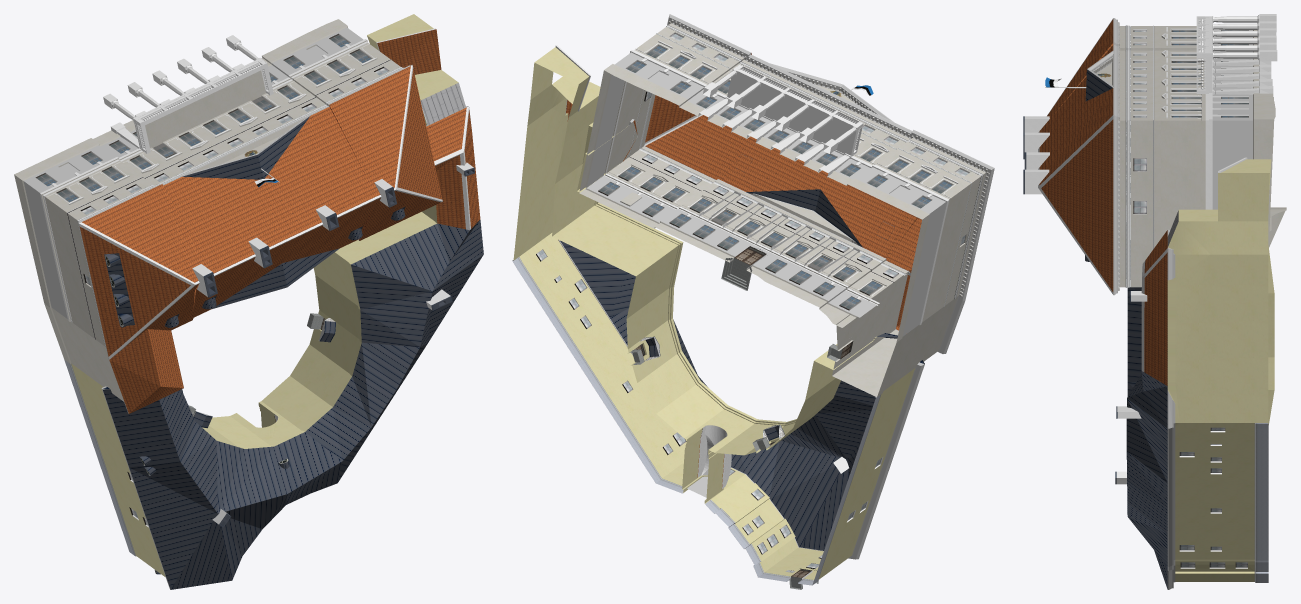
Rendered from Rahukohtu_3.obj.
3 renders of one model, left to right at view 1: azimuth 30°, elevation 25°; view 2: azimuth 150°, elevation 25°; view 3: azimuth 270°, elevation 25°, orthographic. The views are drawn at different scales.
Parts seen in each view (by area): view 1: Rahukohtu_3; view 2: Rahukohtu_3; view 3: Rahukohtu_3.
Part boxes in pixels (box(x1,y1,x2,y2)): Rahukohtu_3: box(14, 14, 483, 589); Rahukohtu_3: box(512, 14, 994, 589); Rahukohtu_3: box(1023, 14, 1286, 589).
Bounding box in the file's own units: 56.56 × 63.3 × 26.56.
